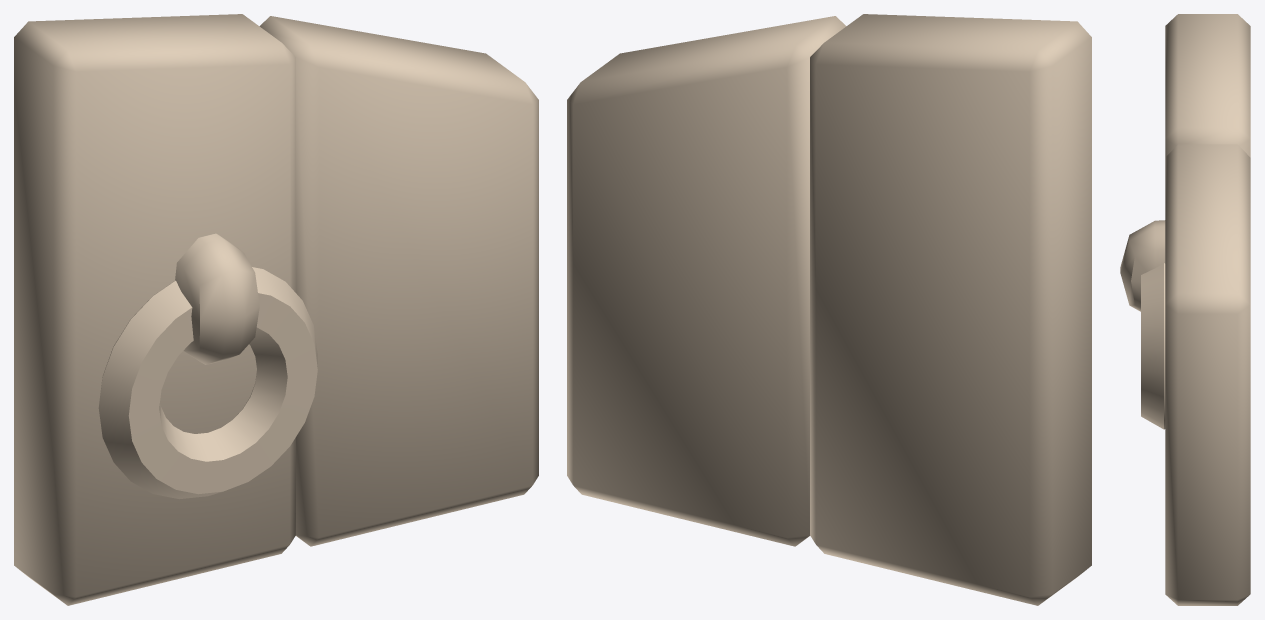
The model's file is gate_double_right.glb.
3 views of the same model, side by side, from view 1: azimuth 30°, elevation 25°; view 2: azimuth 150°, elevation 25°; view 3: azimuth 270°, elevation 25° (orthographic). The views are drawn at different scales.
Parts seen in each view (by area): view 1: gate_double_right; view 2: gate_double_right; view 3: gate_double_right.
Boxes of the visible parts, x1,y1,x2,y2 form: gate_double_right: (14,14,538,605); gate_double_right: (567,14,1091,605); gate_double_right: (1120,14,1250,605).
Bounding box in the file's own units: 1 × 1.09 × 0.3051.
